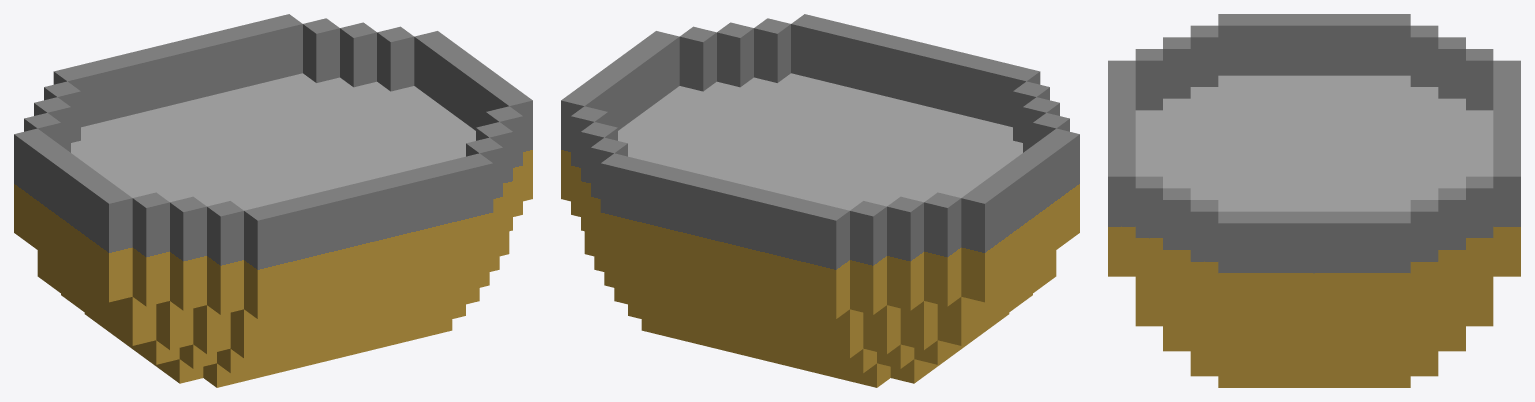
Rendered from Vehicle_33.fbx.
3 renders of one model, left to right at view 1: azimuth 30°, elevation 25°; view 2: azimuth 150°, elevation 25°; view 3: azimuth 270°, elevation 25°, orthographic.
Parts seen in each view (by area): view 1: Vehicle_33; view 2: Vehicle_33; view 3: Vehicle_33.
Part boxes in pixels (left/top/right/bottom): Vehicle_33: left=14, top=14, right=532, bottom=387; Vehicle_33: left=561, top=14, right=1079, bottom=387; Vehicle_33: left=1108, top=14, right=1520, bottom=387.
Bounding box in the file's own units: 18 × 8 × 15.
Materials: 1 (1 with a texture image).
